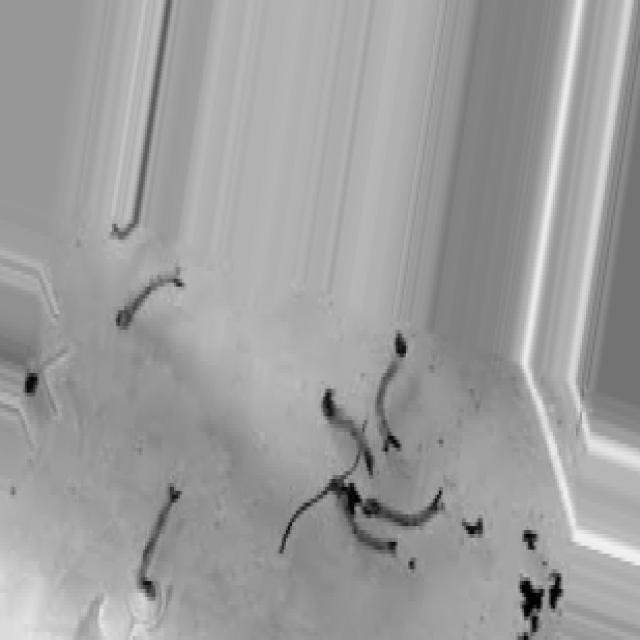larvas: (327, 468, 403, 572), (138, 482, 181, 599), (118, 264, 183, 330), (323, 392, 373, 470), (378, 337, 408, 453), (361, 495, 446, 526)
